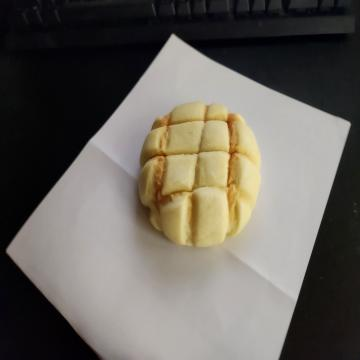melon_bread: (135, 99, 263, 248)
